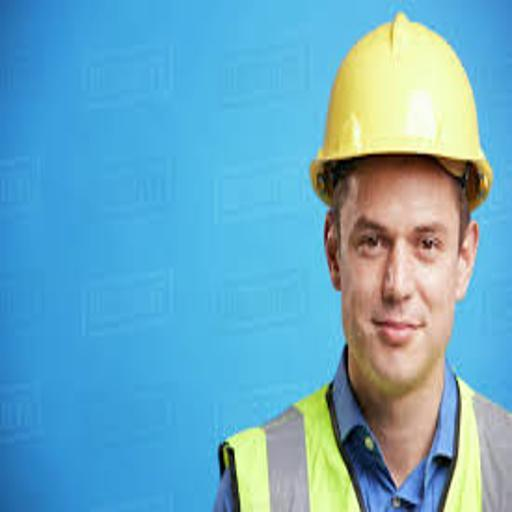Humans: (188, 215, 512, 512), (286, 10, 504, 209)
Vest: (190, 393, 512, 512)
